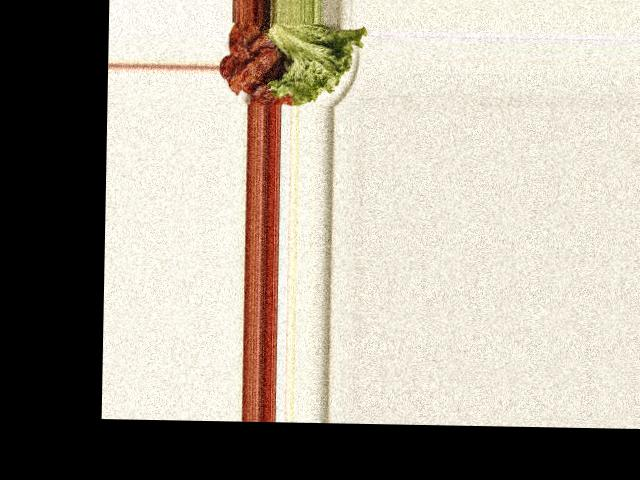lettuce: (267, 21, 362, 104)
